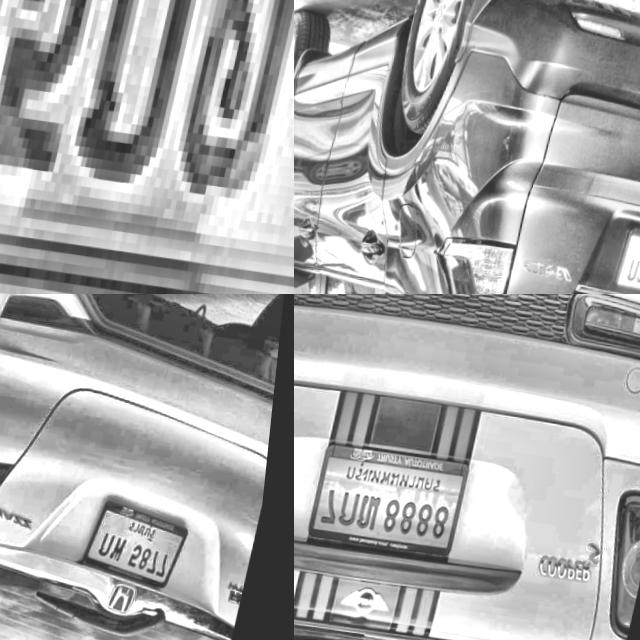license-plate: (0, 0, 294, 294), (313, 438, 479, 556), (86, 495, 204, 590), (620, 225, 640, 294)
